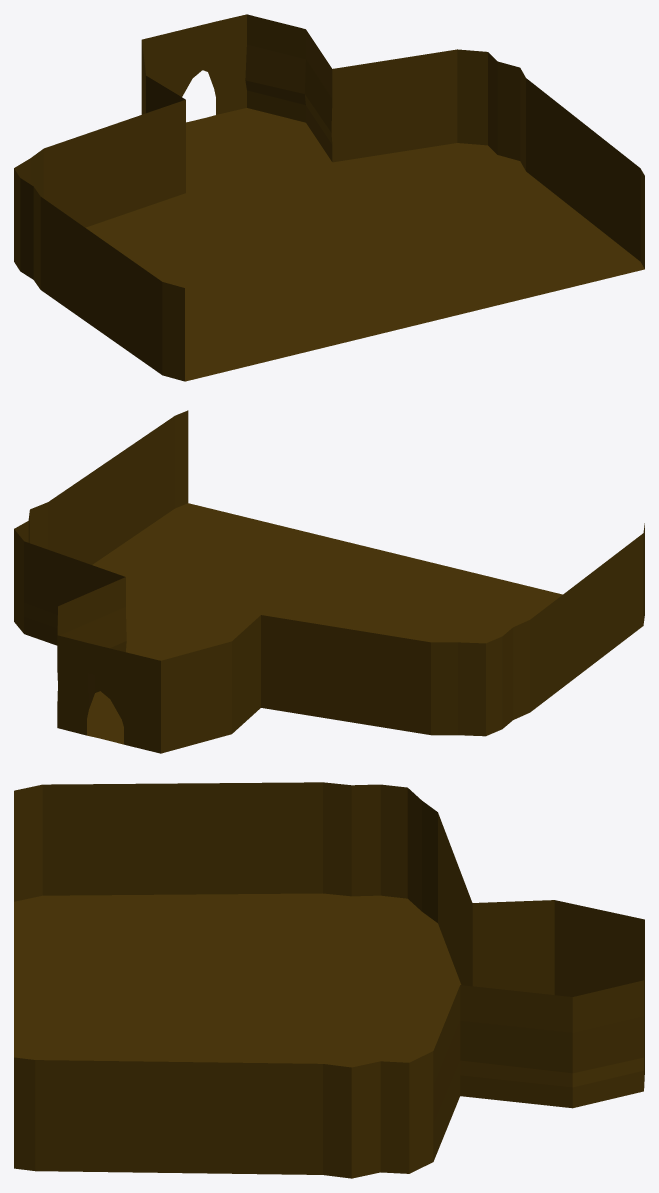
File: cave.fbx
The picture shows the model from 3 angles, top to bottom: view 1: azimuth 30°, elevation 25°; view 2: azimuth 150°, elevation 25°; view 3: azimuth 270°, elevation 25°; orthographic projection. The views are drawn at different scales.
Parts seen in each view (by area): view 1: pPlane1; view 2: pPlane1; view 3: pPlane1.
Boxes of the visible parts, x1=… form: pPlane1: x1=14, y1=14, x2=644, y2=381; pPlane1: x1=14, y1=410, x2=644, y2=753; pPlane1: x1=14, y1=782, x2=644, y2=1178.
Bounding box in the file's own units: 43.5 × 7.91 × 40.68.
